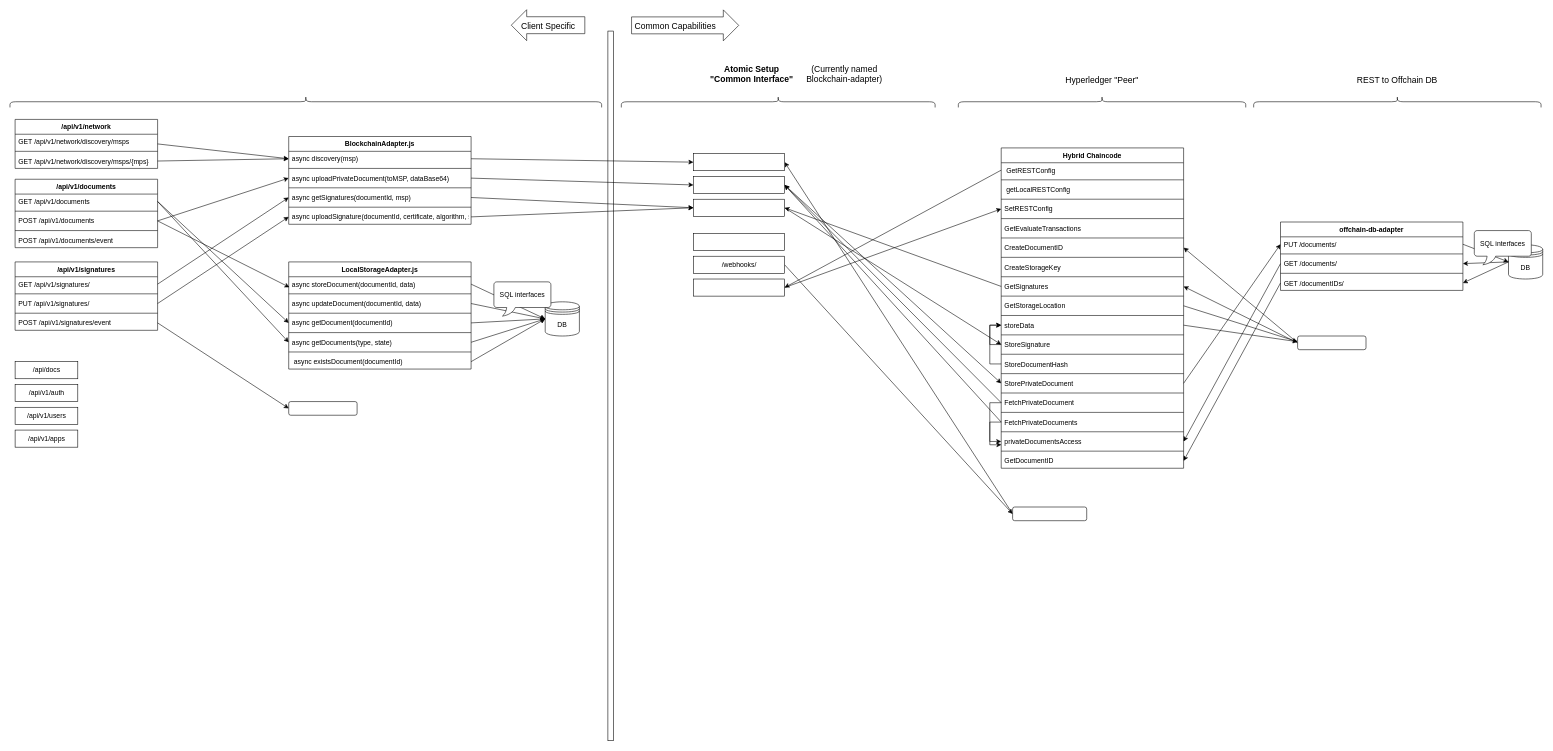
The diagram is 1553 pixels wide and 751 high, and some of its shapes have lost their labels. Each missing label, with the centre of its shape:
"/config/offchain-db-adapter" belongs at point (739, 287).
"/discovery/msps/" belongs at point (739, 162).
"/private-documents/" belongs at point (739, 185).
"/signatures/" belongs at point (739, 207).
"/status" belongs at point (739, 242).
"Fabric-SDK (peer API)" belongs at point (1049, 513).
"Not complete" belongs at point (322, 408).
"The Network" belongs at point (1331, 342).
"Web-UI App-Core" belongs at point (305, 101).
